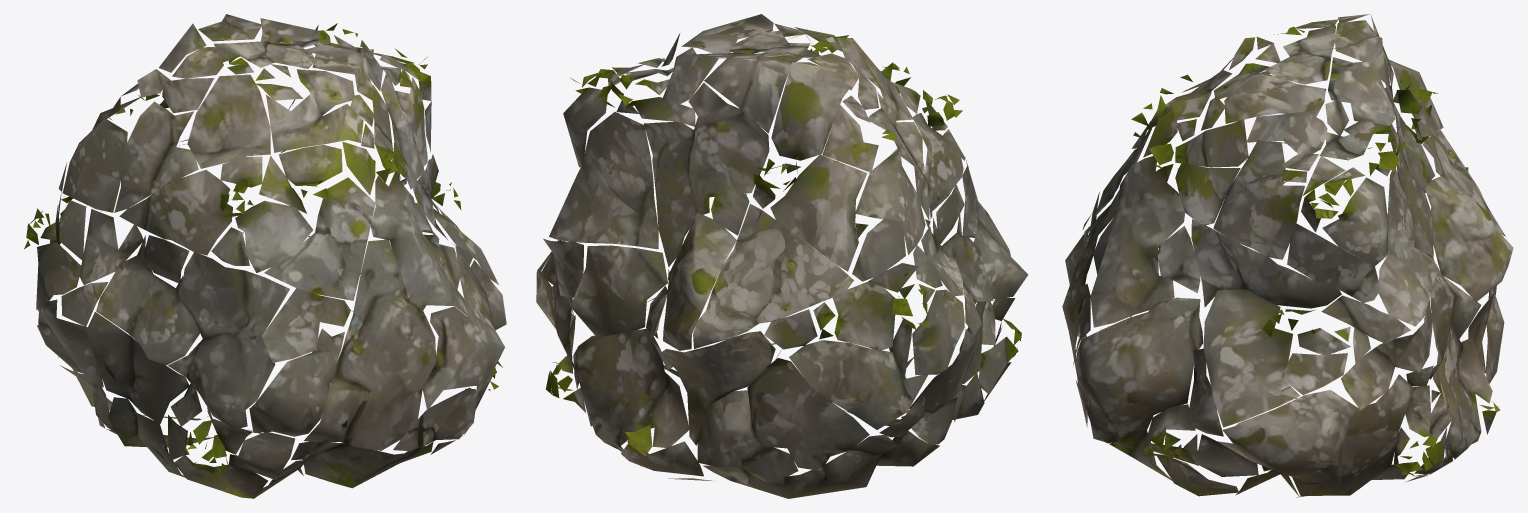
Rendered from env_boulder_moss_LOD3.glb.
3 renders of one model, left to right at view 1: azimuth 30°, elevation 25°; view 2: azimuth 150°, elevation 25°; view 3: azimuth 270°, elevation 25°, orthographic. The views are drawn at different scales.
Parts seen in each view (by area): view 1: tripo_node_5f5a647b-546c-43b3-a3c5-a81652d3ce2e; view 2: tripo_node_5f5a647b-546c-43b3-a3c5-a81652d3ce2e; view 3: tripo_node_5f5a647b-546c-43b3-a3c5-a81652d3ce2e.
Part boxes in pixels (x1=…): tripo_node_5f5a647b-546c-43b3-a3c5-a81652d3ce2e: x1=24, y1=14, x2=506, y2=498; tripo_node_5f5a647b-546c-43b3-a3c5-a81652d3ce2e: x1=536, y1=14, x2=1028, y2=498; tripo_node_5f5a647b-546c-43b3-a3c5-a81652d3ce2e: x1=1062, y1=14, x2=1513, y2=497.
Size of the model in its own units: 0.9865 by 0.8815 by 0.889.
Materials: 1 (1 with a texture image).
